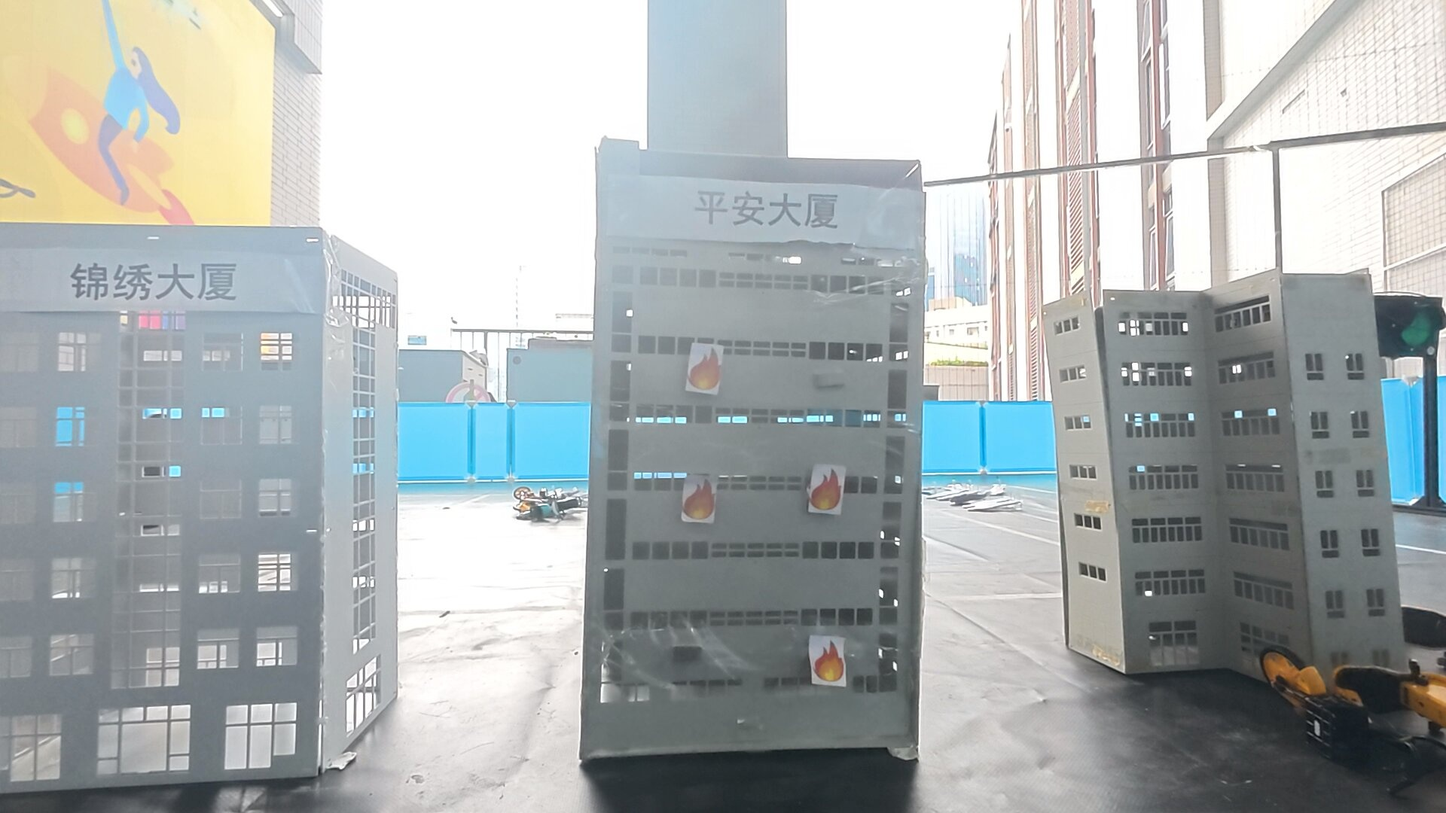fire: (807, 634, 850, 687), (806, 463, 848, 516), (686, 342, 727, 396), (680, 473, 721, 525)
